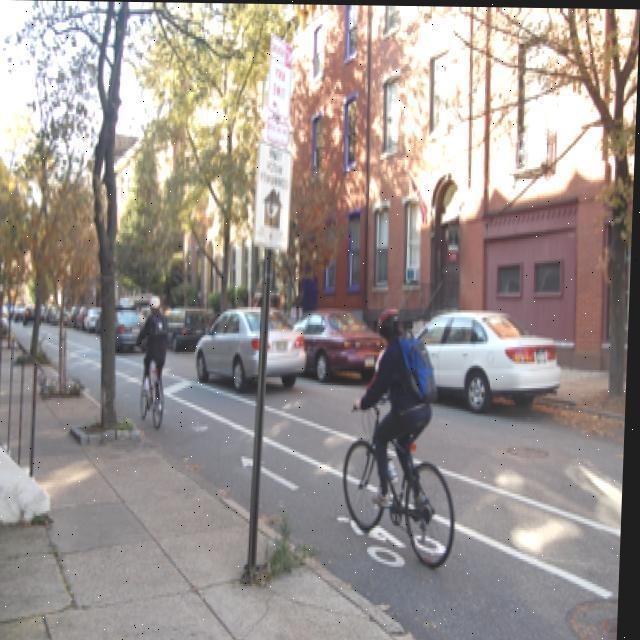Helmet: (376, 300, 411, 342), (146, 286, 168, 315)
